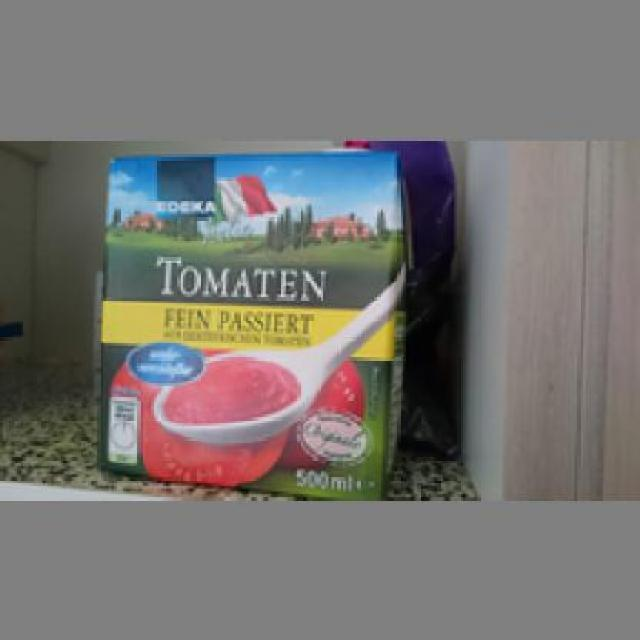Tomato Sauce: (90, 146, 407, 494)
